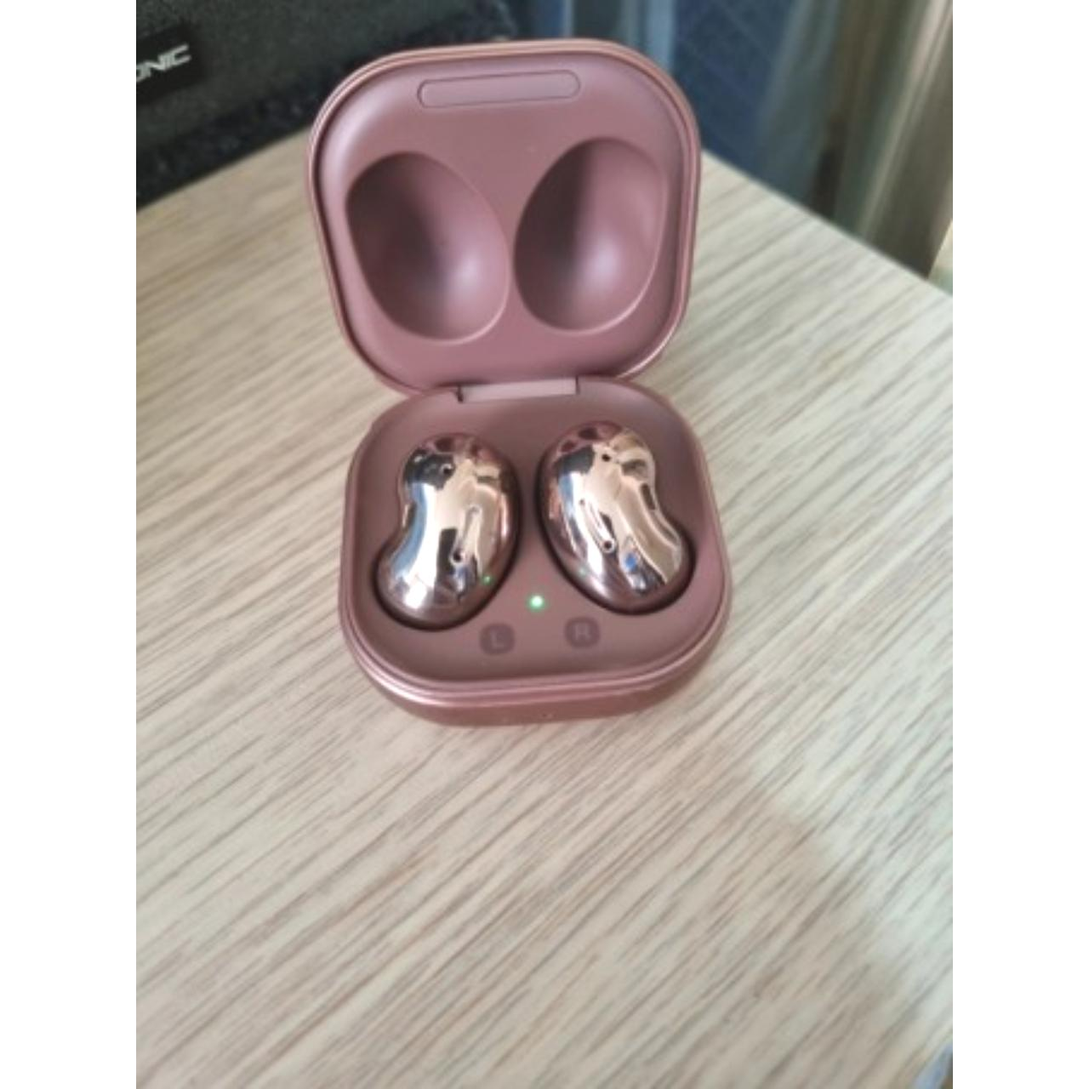Buds: (304, 31, 741, 733)
Buds_Units: (369, 431, 531, 637), (535, 417, 697, 621)
